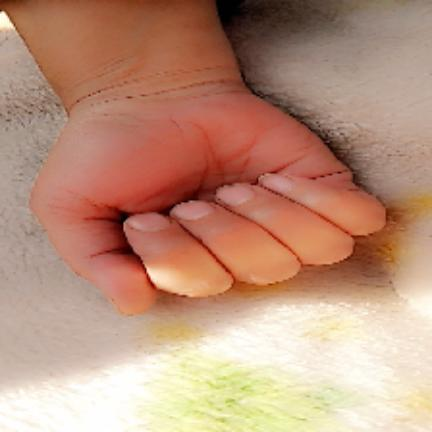Nail: (126, 213, 170, 232), (216, 183, 254, 205), (172, 201, 213, 220), (258, 175, 294, 194)
